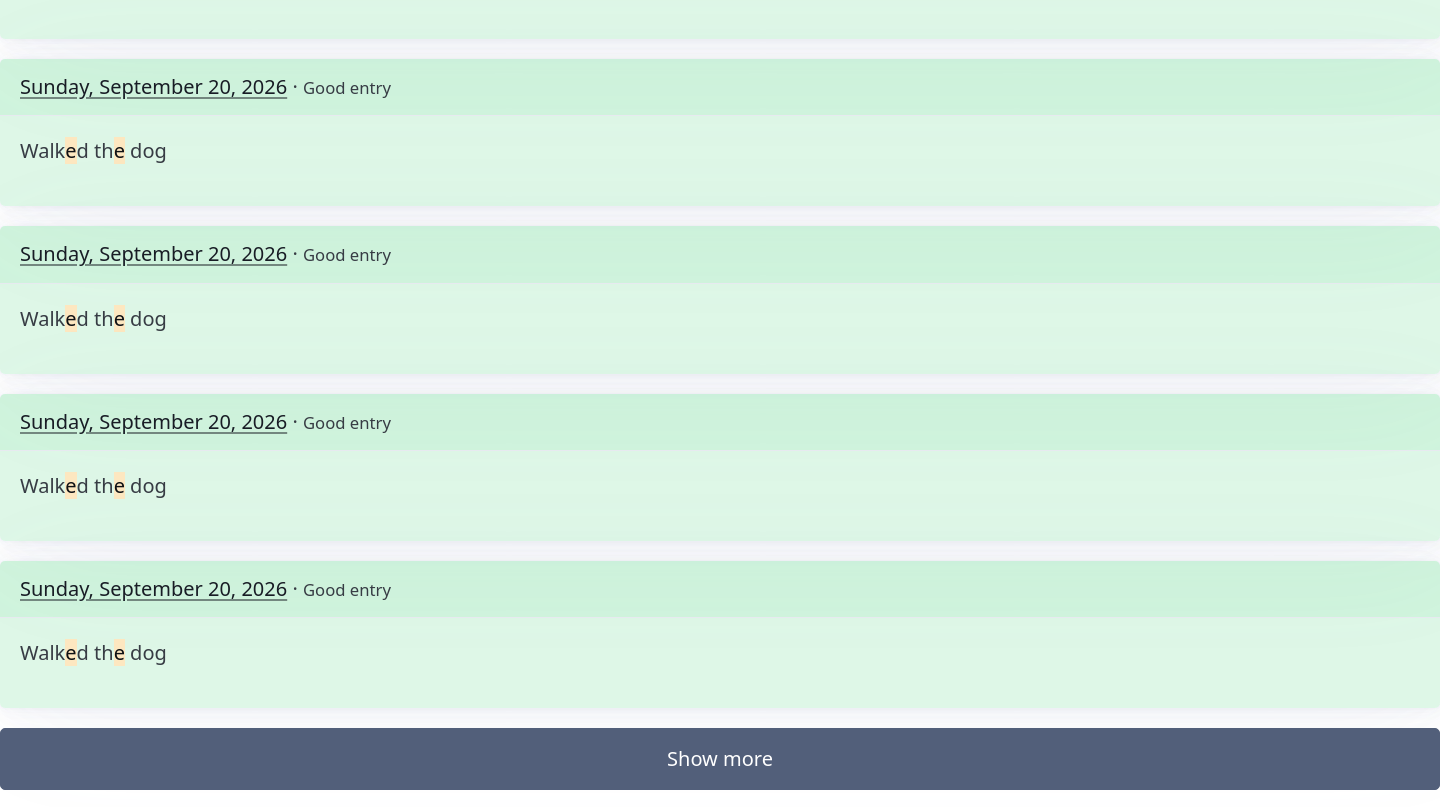
Scenario: SearchPage › shows matches a page at a time
(page scrolled)
Click the button "Show more" at (720, 759), box [0,728,1439,790]
(page scrolled)
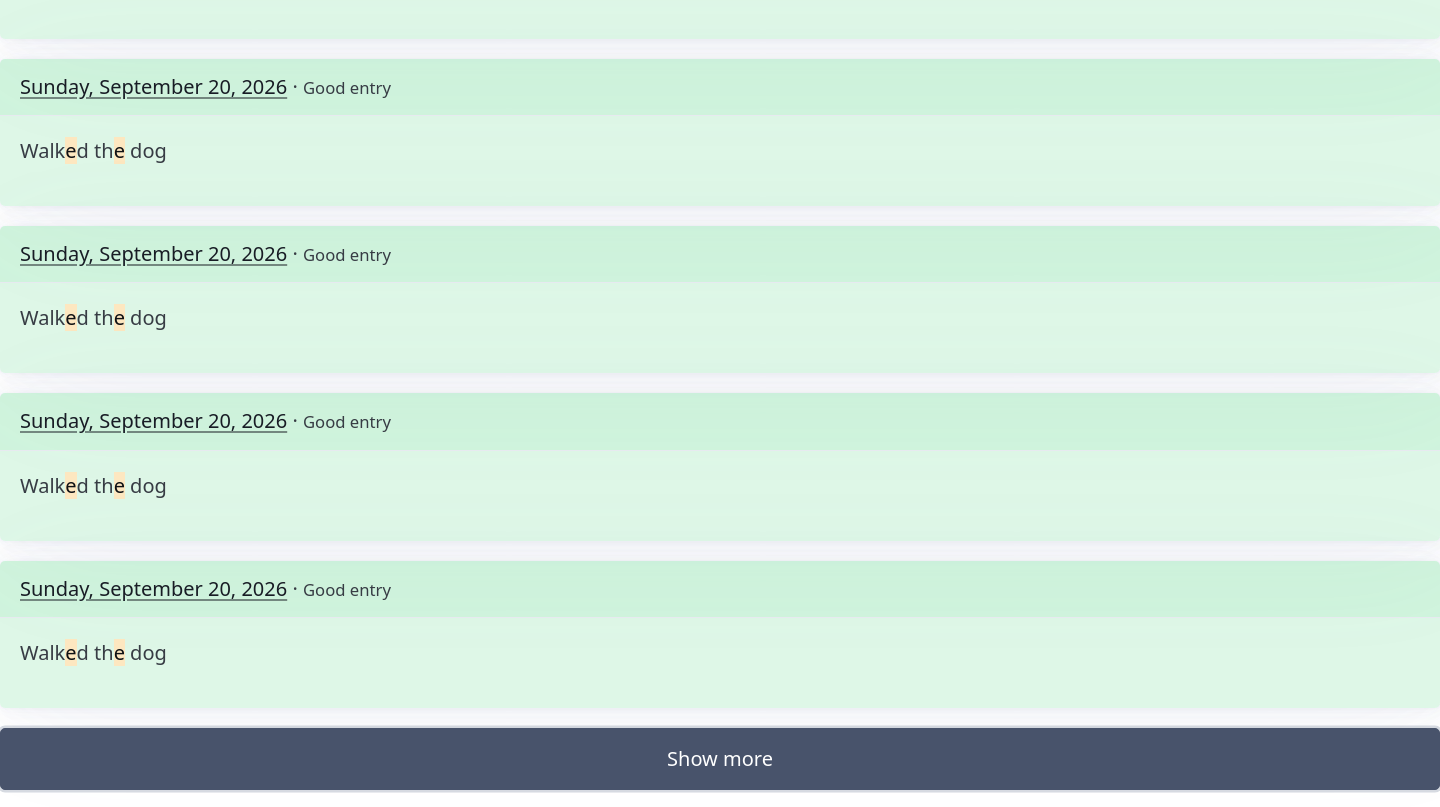
Click the button "Show more" at (720, 759), box [0,728,1439,790]
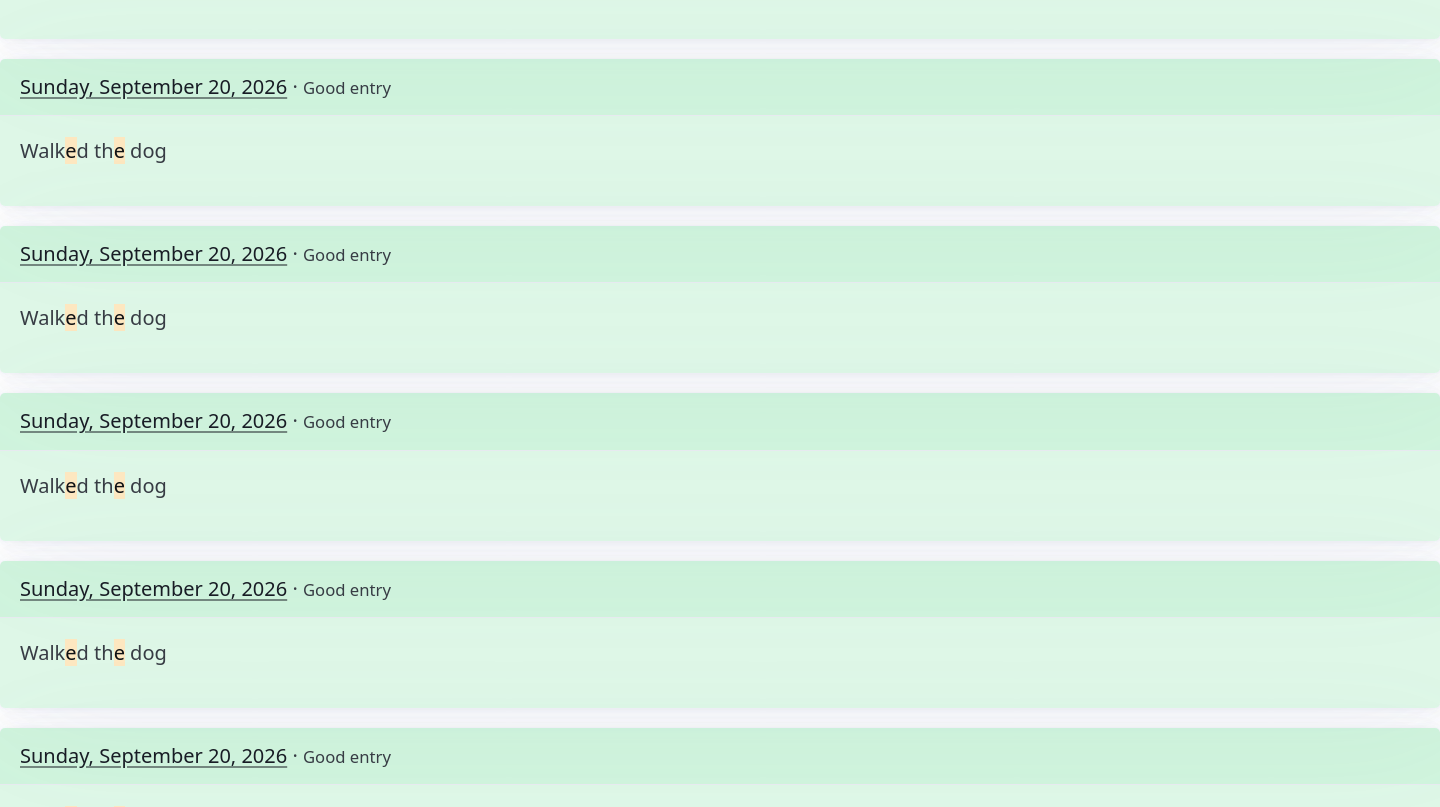
expect the button "Show more" is gone: met
